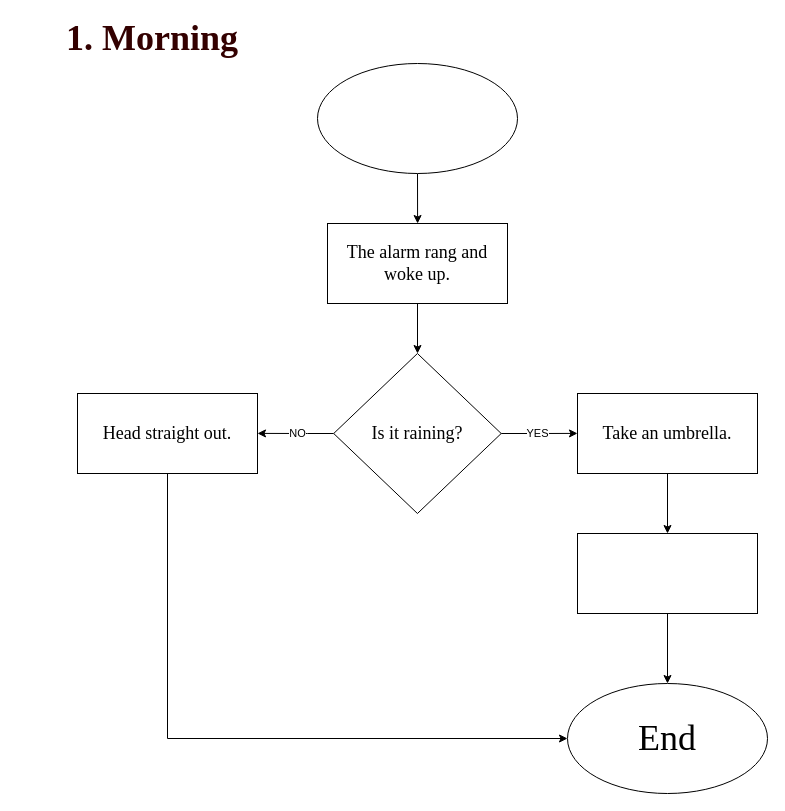
Some shapes in this 785 by 811 pixel diagram are drawn without their labels. The box of each missing label's shape, as (x1, y1, x2, y2) in pixels:
Leave directly.: (576, 532, 758, 614)
Start: (316, 62, 518, 174)
